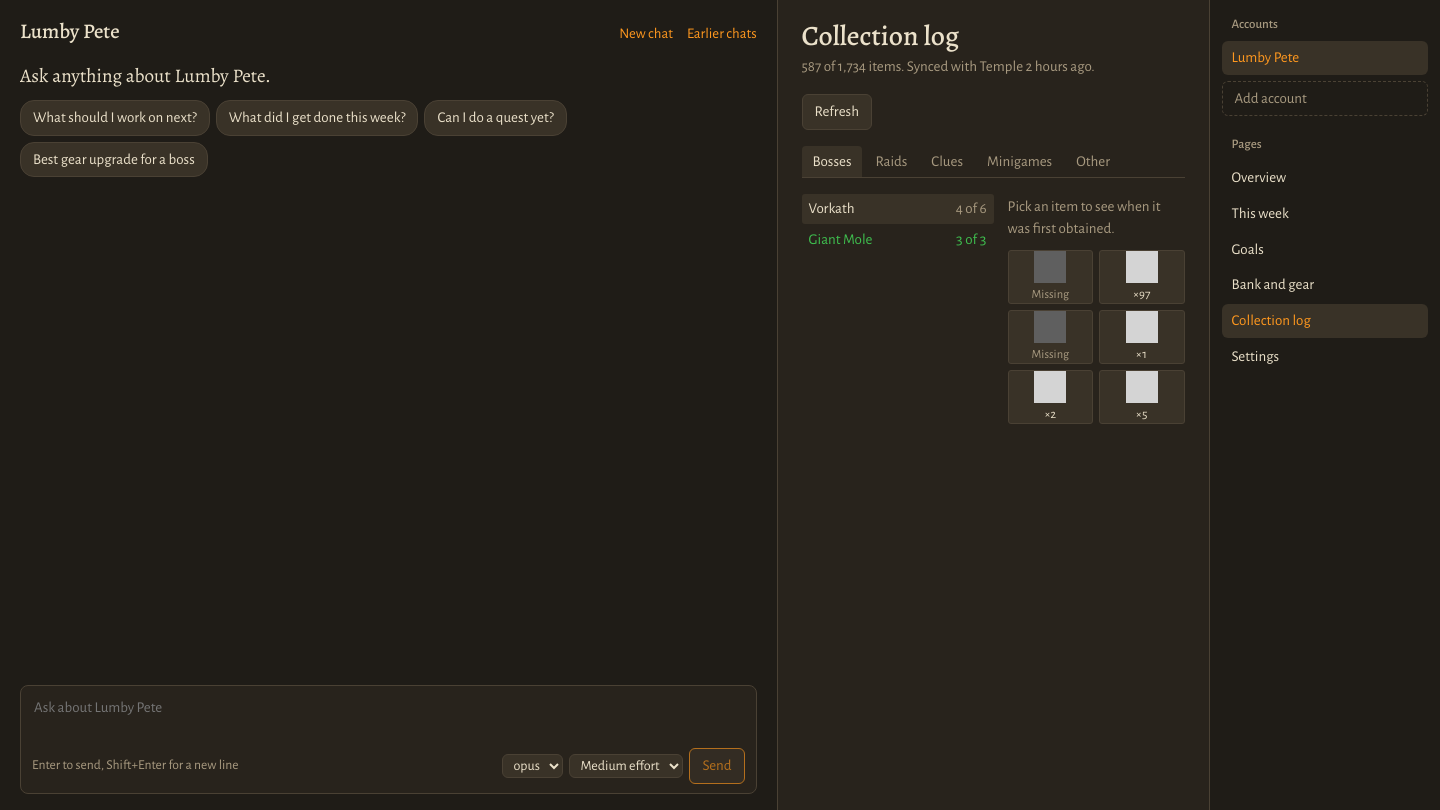
CollectionLog › refreshes from the page, keeping the log shown when the reload fails
Click the button "Refresh" at (837, 112), box [802,94,872,130]
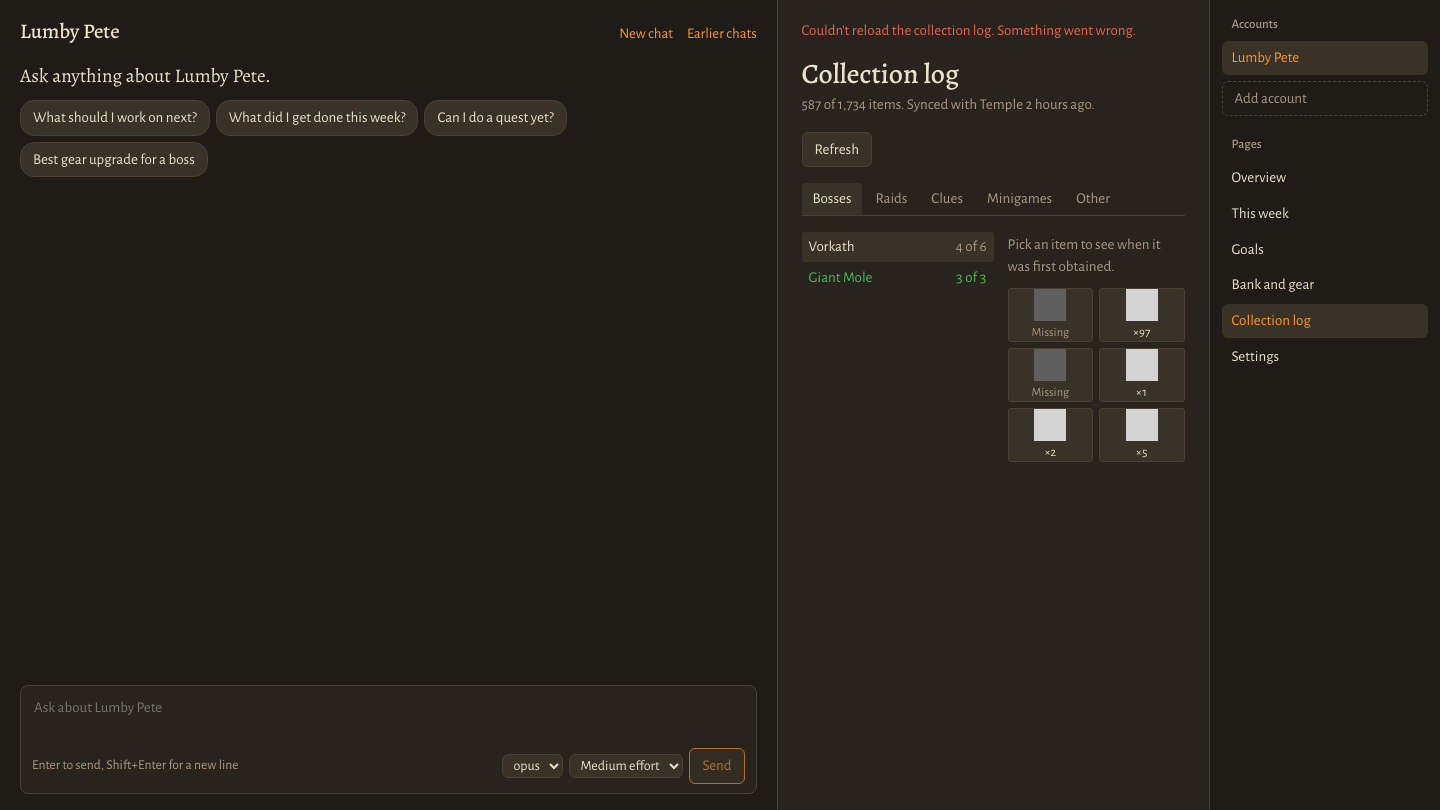
Check: the text "Couldn't reload the collection log. Something went wrong." is shown, box [802,20,1185,42]
